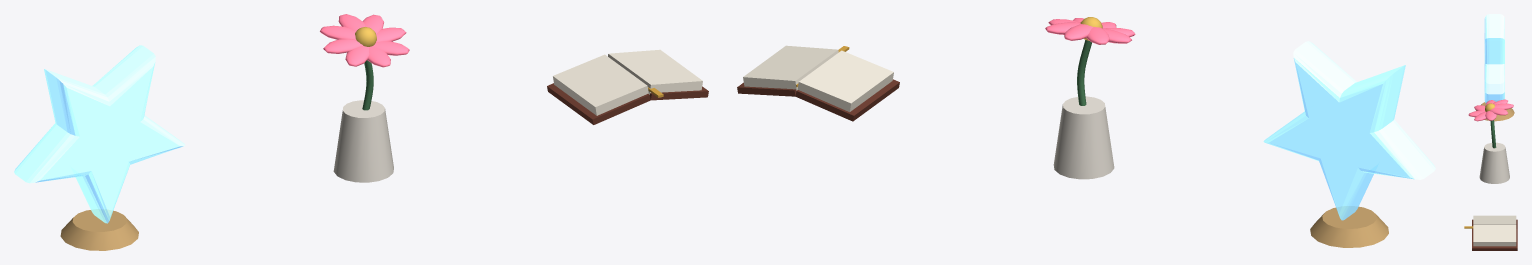
The model's file is mission_props.glb.
The picture shows the model from 3 angles, left to right: view 1: azimuth 30°, elevation 25°; view 2: azimuth 150°, elevation 25°; view 3: azimuth 270°, elevation 25°; orthographic projection. The views are drawn at different scales.
Parts seen in each view (by area): view 1: GlassStar, BotanicalFlower, StoryBook; view 2: GlassStar, StoryBook, BotanicalFlower; view 3: GlassStar, BotanicalFlower, StoryBook.
Boxes of the visible parts, x1,y1,x2,y2 form: GlassStar: (14, 45, 185, 250); BotanicalFlower: (320, 14, 409, 182); StoryBook: (547, 49, 708, 124); GlassStar: (1263, 41, 1435, 247); StoryBook: (737, 45, 899, 121); BotanicalFlower: (1045, 17, 1135, 179); GlassStar: (1476, 14, 1514, 121); BotanicalFlower: (1468, 99, 1513, 183); StoryBook: (1464, 215, 1517, 250).
Bounding box in the file's own units: 2.52 × 0.6252 × 0.35.
